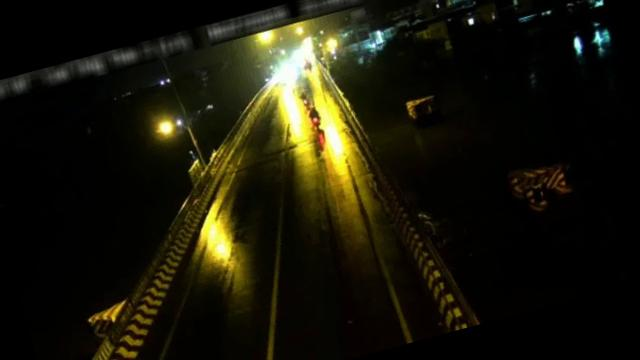Bike: (304, 104, 324, 132), (297, 89, 312, 108)
